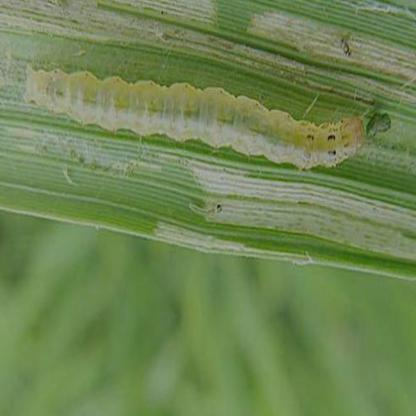leaf-folder: (19, 34, 402, 179)
